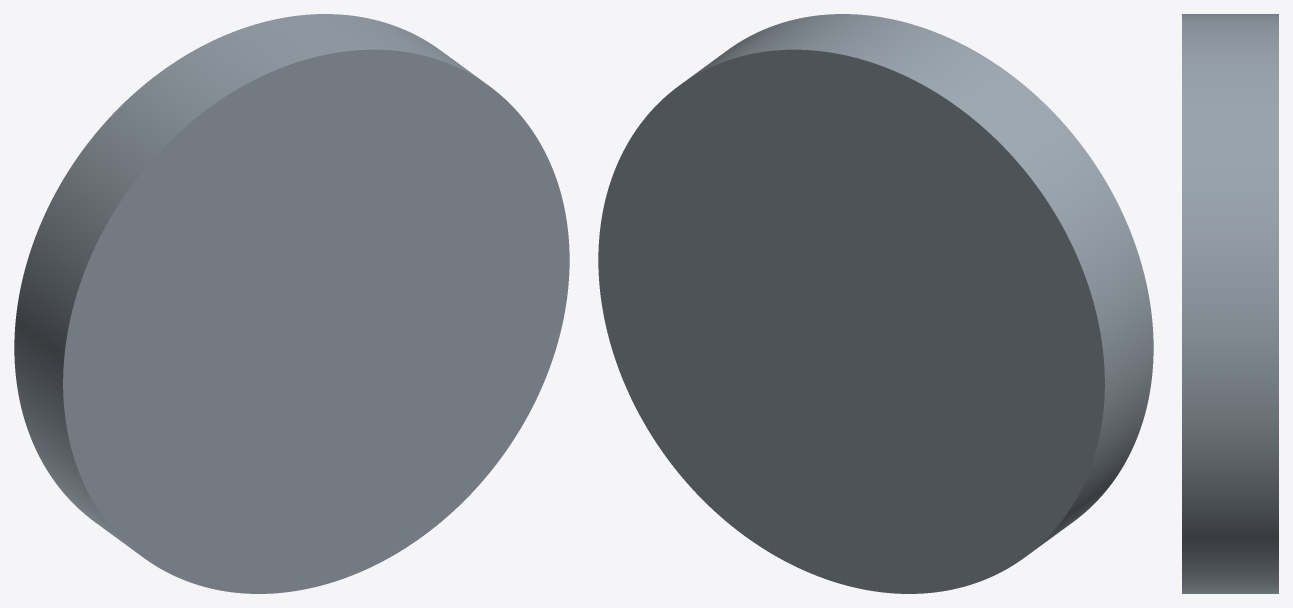
Rendered from button.dae.
3 views of the same model, side by side, from view 1: azimuth 30°, elevation 25°; view 2: azimuth 150°, elevation 25°; view 3: azimuth 270°, elevation 25° (orthographic).
Size of the model in its own units: 0.18 by 0.18 by 0.03.
